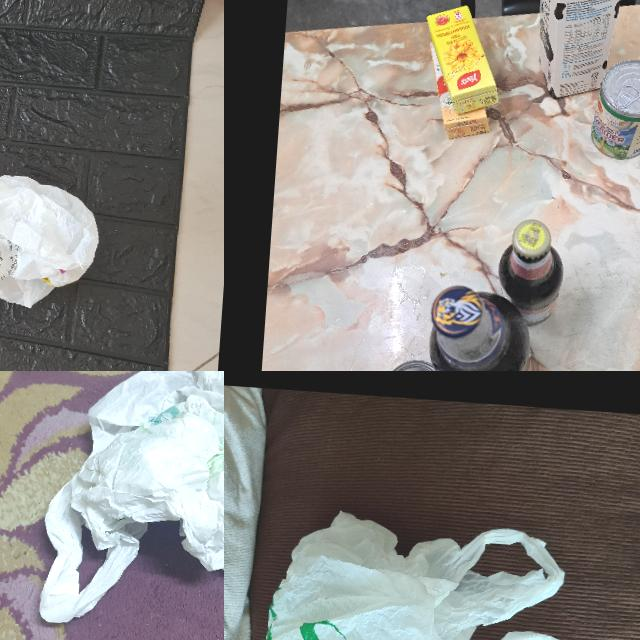aba de lata: (613, 83, 640, 109)
caixinha: (530, 0, 632, 103), (421, 2, 504, 116), (421, 40, 495, 142)
garrafa de vidro: (423, 282, 533, 371), (494, 216, 566, 326)
lata: (588, 57, 640, 161)
sacola plástica: (32, 371, 224, 640), (252, 503, 576, 640), (0, 94, 110, 317)
